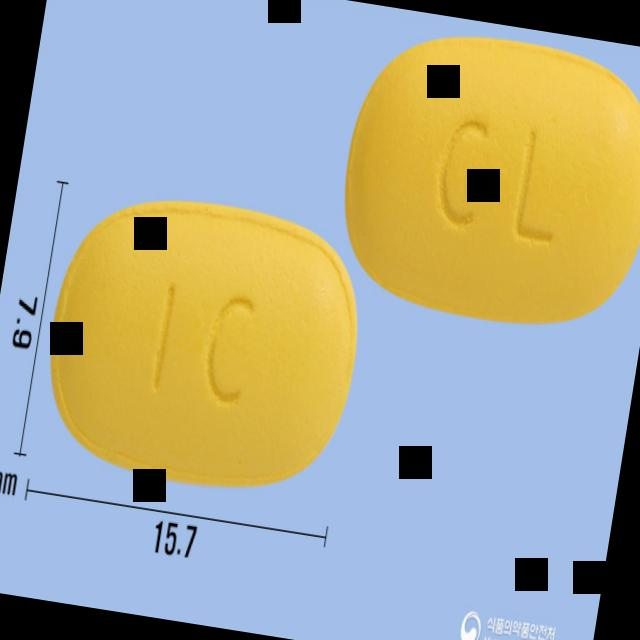Clocin: (29, 180, 377, 507), (327, 18, 640, 343)
